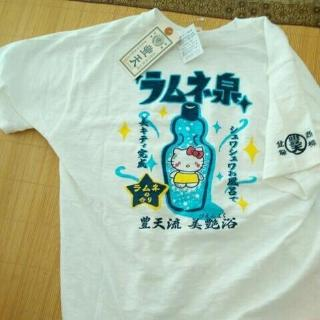short sleeve top: (1, 7, 318, 318)
